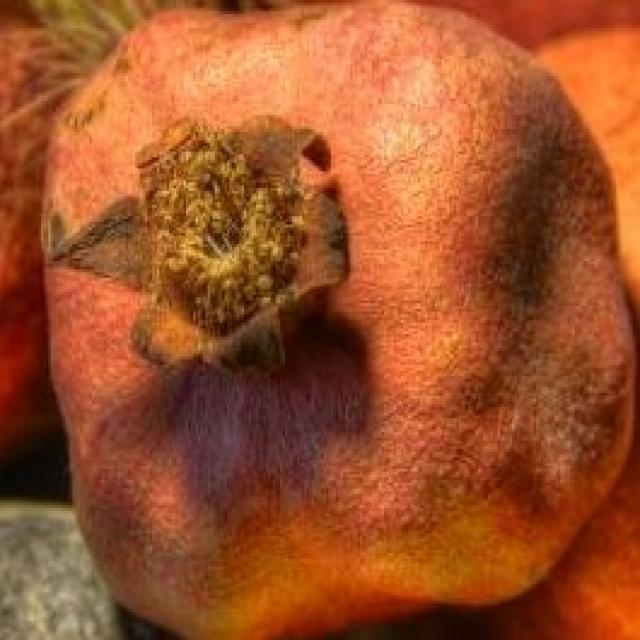overripe: (30, 5, 639, 640)
